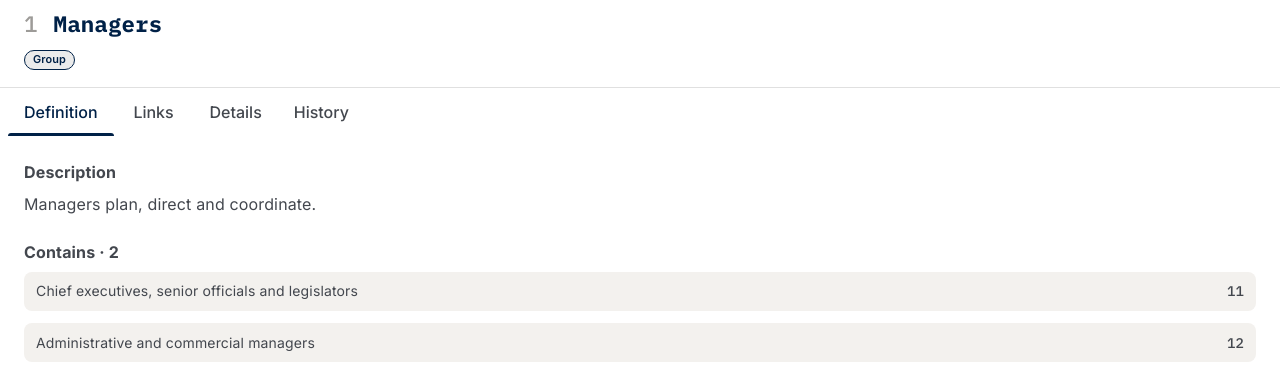
Test: ExplorerDetailPanel › Details tab › should render the type, code and children count for a group
Click the tab "Details" at x=236, y=112, box [194,88,278,136]
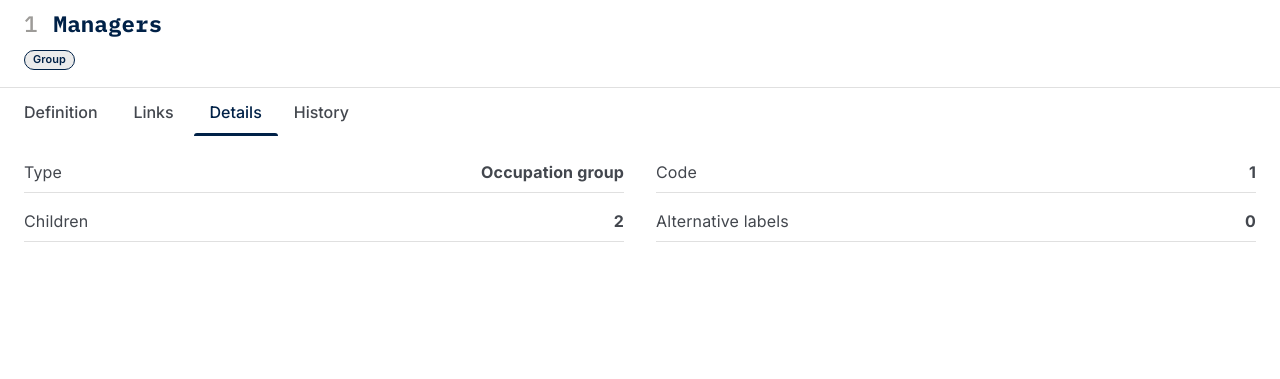
Now the text "Type" is shown, box [24,160,62,184]
Now the text "Occupation group" is shown, box [481,160,624,184]
Now the text "Children" is shown, box [24,209,88,233]
